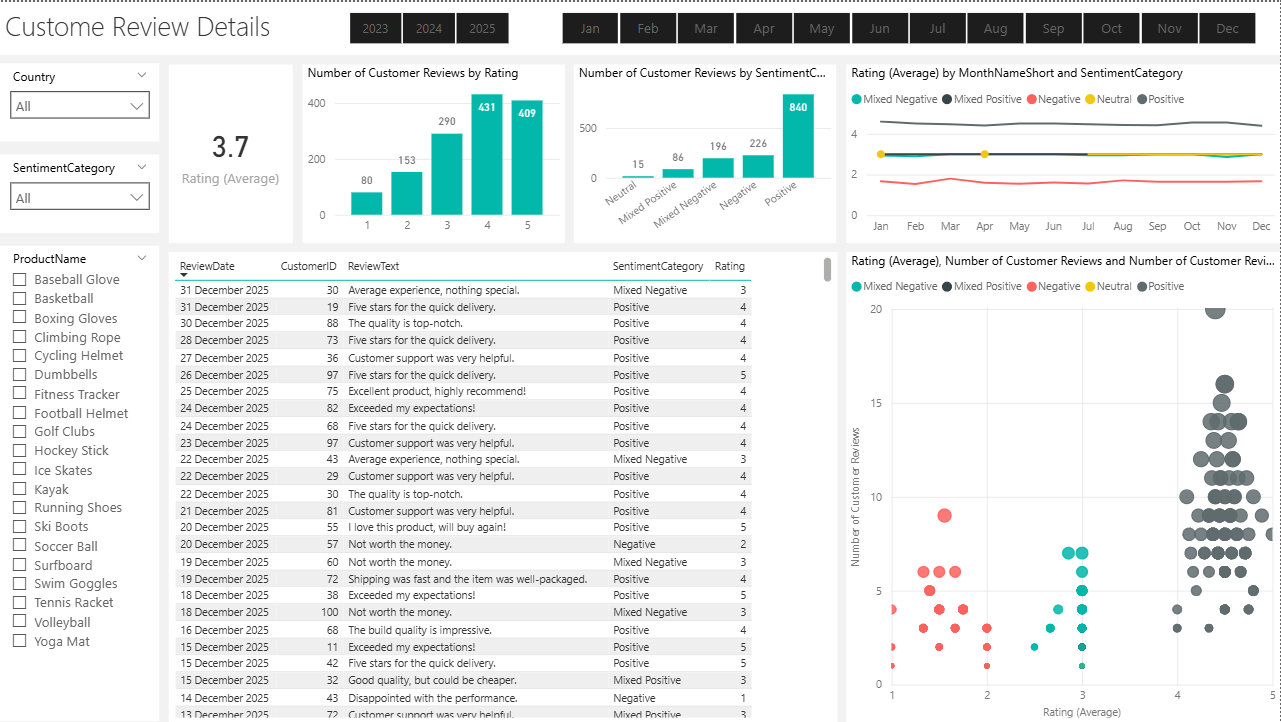

What the dashboard file says about the page in this screenshot:
{"tool":"powerbi","page":{"name":"Customer Review Details","canvas":[1280,720],"ordinal":3},"visuals":[{"type":"textbox","box":[0,0,1280,52.6],"z":0},{"type":"slicer","fields":{"Values":["dim_products.ProductName"]},"box":[0,244.2,159.3,475.3],"z":1000},{"type":"card","fields":{"Values":["_Calculations.Rating (Average)"]},"box":[168.5,61.9,123.8,178.5],"z":2000},{"type":"slicer","fields":{"Values":["Calendar.MonthNameShort"]},"box":[536.8,4.1,743.2,44.4],"z":3000},{"type":"lineChart","fields":{"Category":["Calendar.MonthNameShort"],"Y":["_Calculations.Rating (Average)"],"Series":["fact_customer_reviews_with_sentiment.SentimentCategory"]},"box":[846.2,62,434.1,178.4],"z":4000},{"type":"slicer","fields":{"Values":["Calendar.Year"]},"box":[324.1,4.1,208.5,44.4],"z":5000},{"type":"tableEx","fields":{"Values":["fact_customer_reviews_with_sentiment.ReviewDate","fact_customer_reviews_with_sentiment.CustomerID","fact_customer_reviews_with_sentiment.ReviewText","fact_customer_reviews_with_sentiment.SentimentCategory","fact_customer_reviews_with_sentiment.Rating"]},"box":[168.5,249.5,668.4,470.8],"z":6000},{"type":"columnChart","fields":{"Category":["fact_customer_reviews_with_sentiment.Rating"],"Y":["_Calculations.Number of Customer Reviews"]},"box":[302.4,62,262.4,178.4],"z":7000},{"type":"columnChart","fields":{"Category":["fact_customer_reviews_with_sentiment.SentimentCategory"],"Y":["_Calculations.Number of Customer Reviews"]},"box":[574.3,62,262.4,178.4],"z":8000},{"type":"slicer","fields":{"Values":["dim_customers.Country"]},"box":[0,61.4,159.3,78.3],"z":9000},{"type":"slicer","fields":{"Values":["fact_customer_reviews_with_sentiment.SentimentCategory"]},"box":[0,152.8,159.3,78.3],"z":10000},{"type":"scatterChart","fields":{"Category":["dim_customers.CustomerID"],"Series":["fact_customer_reviews_with_sentiment.SentimentCategory"],"X":["_Calculations.Rating (Average)"],"Y":["_Calculations.Number of Customer Reviews"],"Size":["_Calculations.Number of Customer Reviews"]},"box":[846,249.5,434.4,470.8],"z":11000}]}

Visuals, with their boxes in screenshot pixels (x1, y1, x2, y2), scaled from the page's 1280x720 canvas onto the 1281x722 screenshot:
textbox: rect(0, 0, 1280, 53)
slicer - dim_products.ProductName: rect(0, 245, 159, 721)
card - _Calculations.Rating (Average): rect(169, 62, 293, 241)
slicer - Calendar.MonthNameShort: rect(537, 4, 1280, 49)
lineChart - Calendar.MonthNameShort x _Calculations.Rating (Average): rect(847, 62, 1280, 241)
slicer - Calendar.Year: rect(324, 4, 533, 49)
tableEx - fact_customer_reviews_with_sentiment.ReviewDate x fact_customer_reviews_with_sentiment.CustomerID: rect(169, 250, 838, 721)
columnChart - fact_customer_reviews_with_sentiment.Rating x _Calculations.Number of Customer Reviews: rect(303, 62, 565, 241)
columnChart - fact_customer_reviews_with_sentiment.SentimentCategory x _Calculations.Number of Customer Reviews: rect(575, 62, 837, 241)
slicer - dim_customers.Country: rect(0, 62, 159, 140)
slicer - fact_customer_reviews_with_sentiment.SentimentCategory: rect(0, 153, 159, 232)
scatterChart - dim_customers.CustomerID x fact_customer_reviews_with_sentiment.SentimentCategory: rect(847, 250, 1280, 721)
